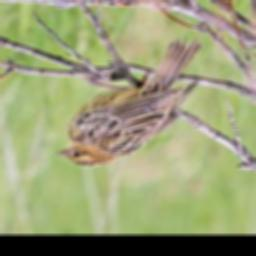Sparrow: (55, 36, 204, 168)
